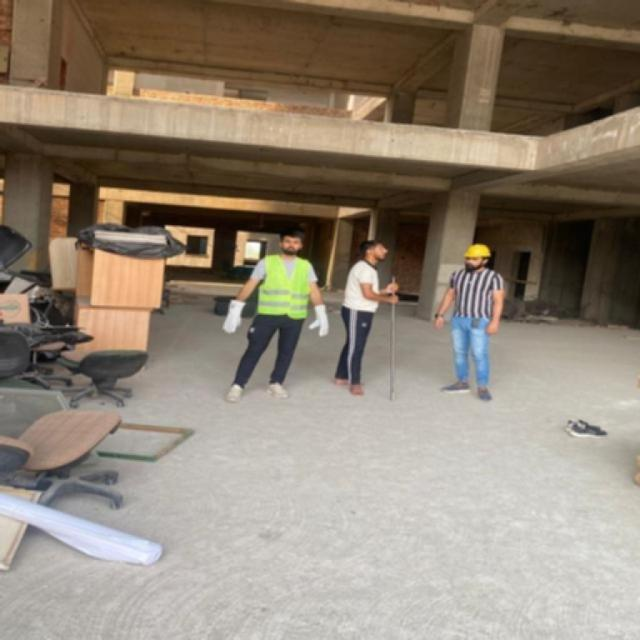Gloves-Detection: (222, 297, 246, 341), (310, 303, 332, 335)
